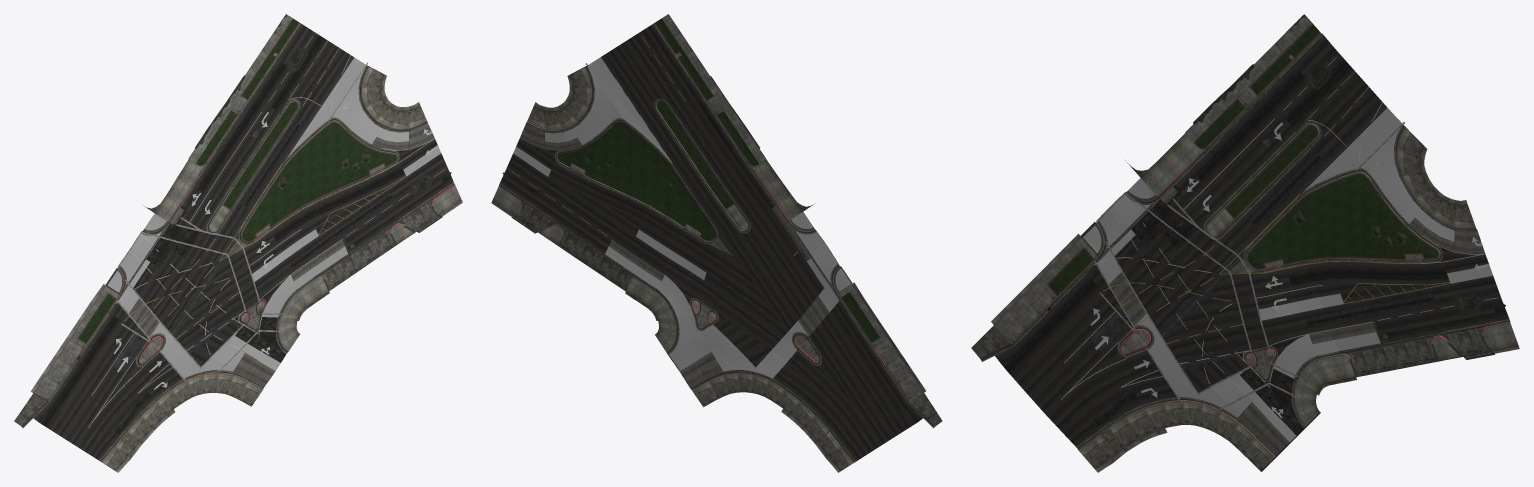
3 renders of one model, left to right at view 1: azimuth 30°, elevation 25°; view 2: azimuth 150°, elevation 25°; view 3: azimuth 330°, elevation 25°, orthographic. The views are drawn at different scales.
Visible parts, largest first — view 1: sc1_rd_r3_01; view 2: sc1_rd_r3_01; view 3: sc1_rd_r3_01.
Part boxes in pixels (x1,y1,x2,y2): sc1_rd_r3_01: (14,14,462,472); sc1_rd_r3_01: (491,14,942,472); sc1_rd_r3_01: (971,14,1519,472).
Bounding box in the file's own units: 14256 × 12646 × 144.
